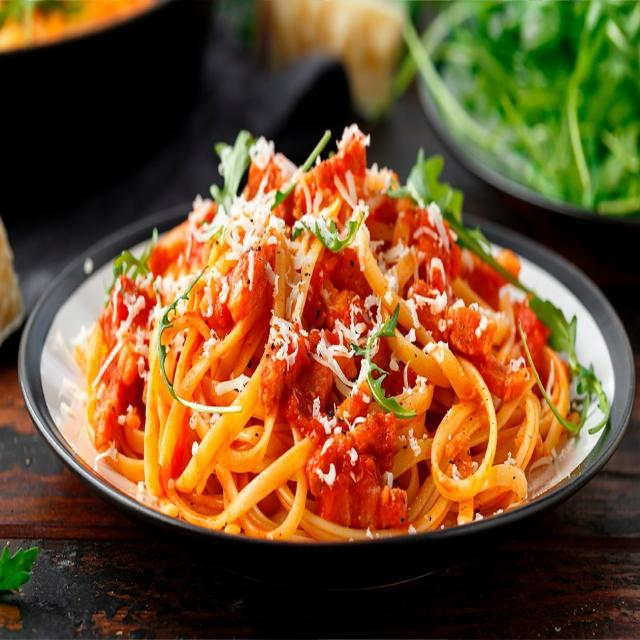pasta: (63, 104, 603, 556)
